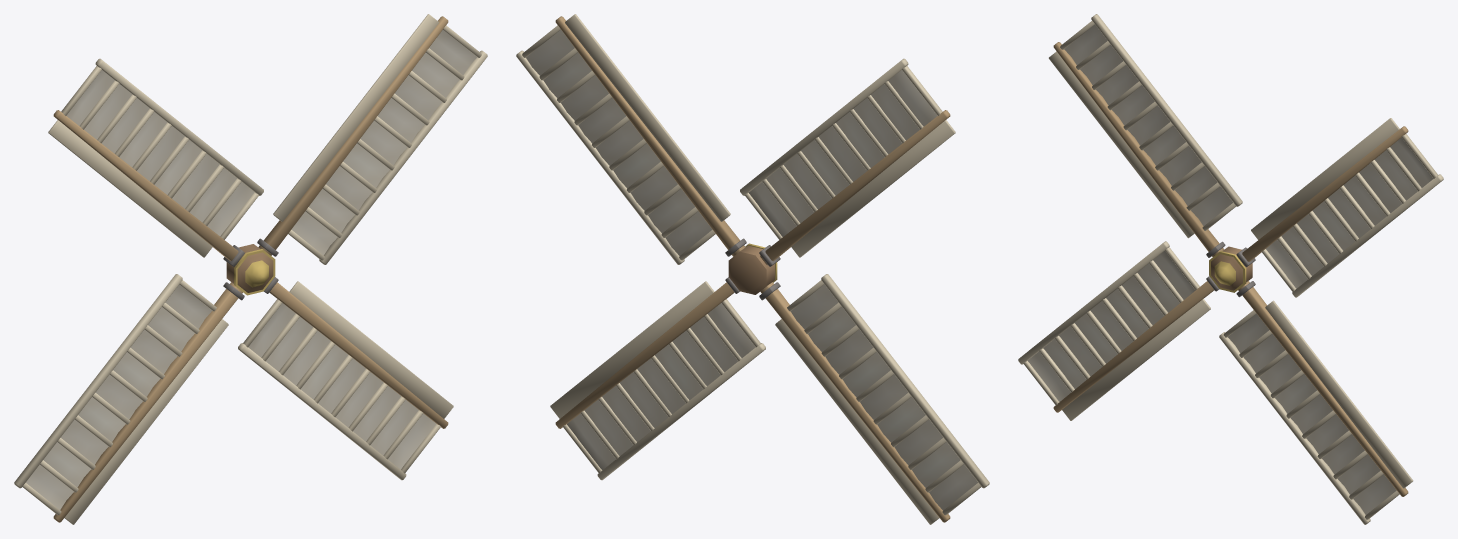
File: windmill_sails.glb
3 renders of one model, left to right at view 1: azimuth 30°, elevation 25°; view 2: azimuth 150°, elevation 25°; view 3: azimuth 330°, elevation 25°, orthographic. The views are drawn at different scales.
Parts seen in each view (by area): view 1: windmill_sails; view 2: windmill_sails; view 3: windmill_sails.
Part boxes in pixels (x1,y1,x2,y2): windmill_sails: (14,14,487,524); windmill_sails: (516,14,989,524); windmill_sails: (1018,14,1443,524).
Bounding box in the file's own units: 77 × 77 × 5.25.
